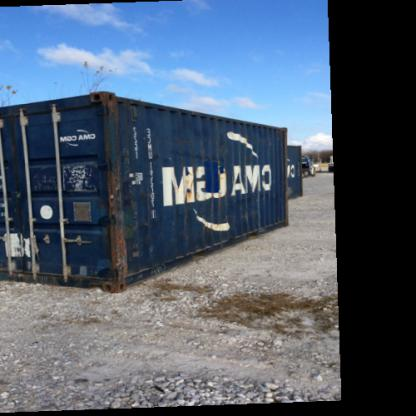Damage: (106, 164, 154, 276), (28, 160, 96, 190), (170, 143, 238, 167), (92, 90, 121, 112), (198, 218, 220, 247), (181, 178, 196, 206)
